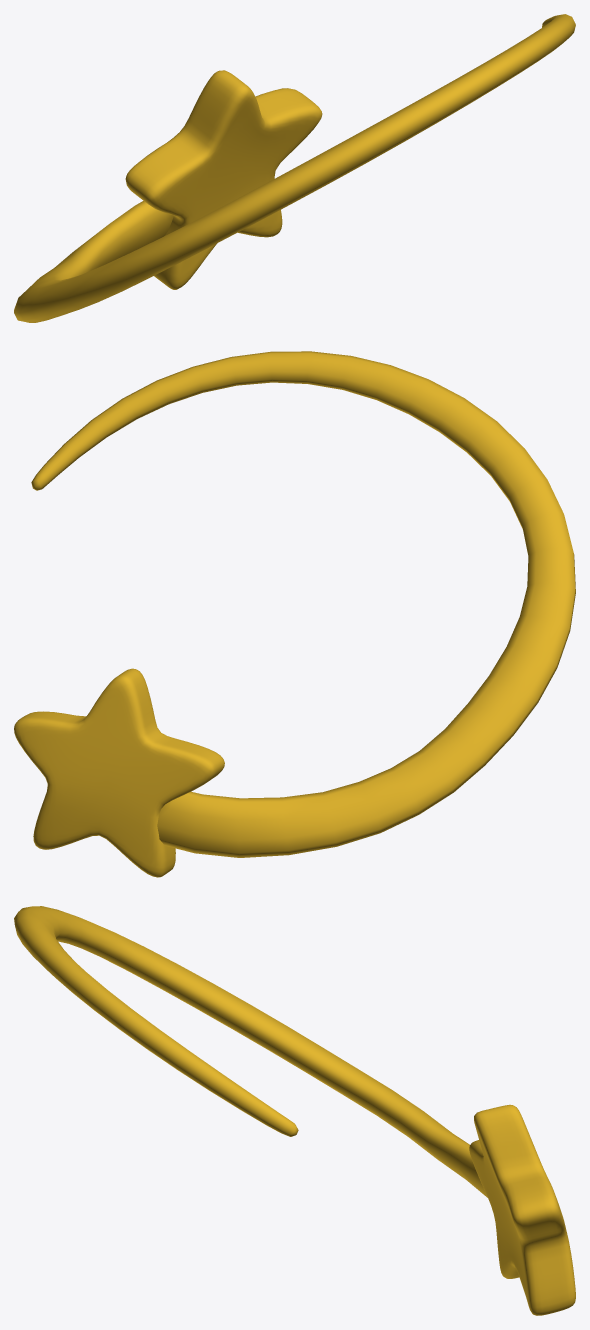
File: moving-star.glb
3 renders of one model, top to bottom at view 1: azimuth 30°, elevation 25°; view 2: azimuth 150°, elevation 25°; view 3: azimuth 270°, elevation 25°, orthographic. The views are drawn at different scales.
Visible parts, largest first — view 1: Group35681, Group60615; view 2: Group35681, Group60615; view 3: Group35681, Group60615.
Boxes of the visible parts, x1,y1,x2,y2 form: Group35681: (14, 14, 575, 322); Group60615: (125, 70, 322, 289); Group35681: (31, 351, 575, 857); Group60615: (14, 668, 224, 877); Group35681: (14, 906, 487, 1197); Group60615: (469, 1104, 575, 1315).
Size of the model in its own units: 0.5644 by 0.3839 by 0.5426.
